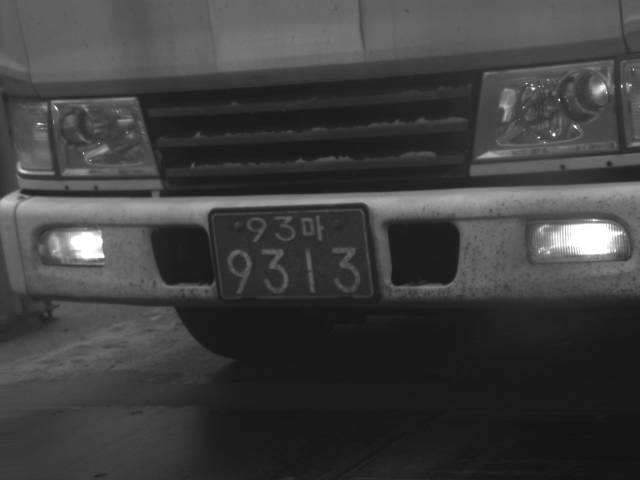car: (1, 1, 639, 356)
plate: (209, 208, 377, 302)
